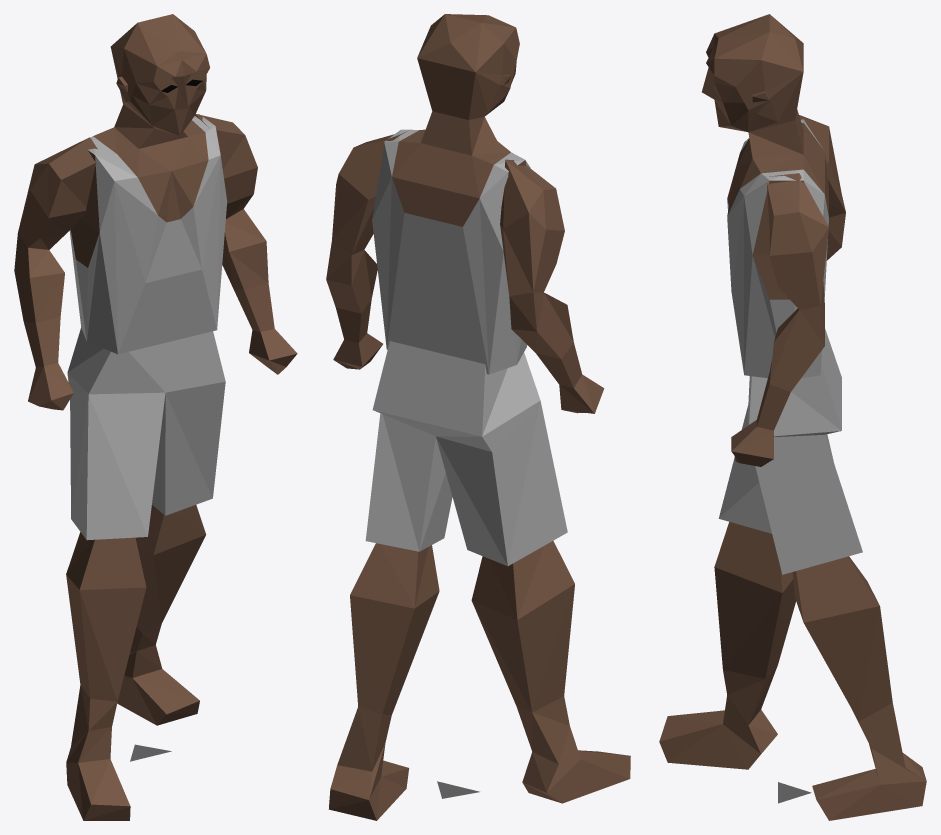
File: character4.obj
3 views of the same model, side by side, from view 1: azimuth 30°, elevation 25°; view 2: azimuth 150°, elevation 25°; view 3: azimuth 270°, elevation 25° (orthographic). The views are drawn at different scales.
Bounding box in the file's own units: 71 × 202 × 63.
